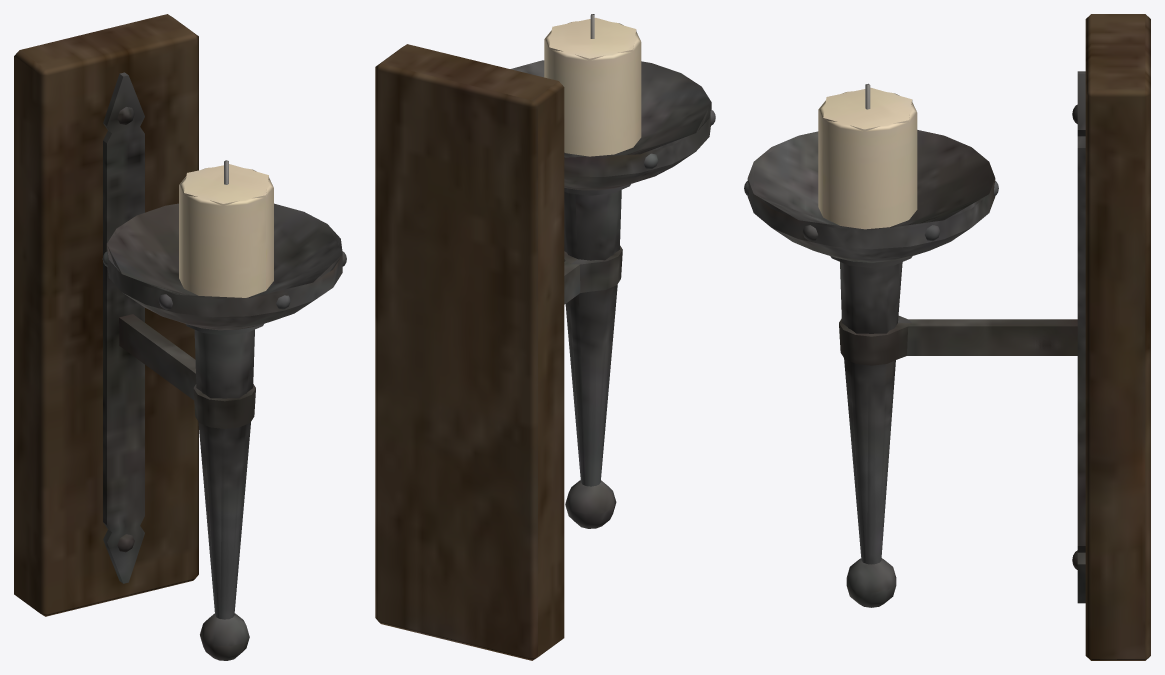
File: WallCandleB_Flame.glb
The picture shows the model from 3 angles, left to right: view 1: azimuth 30°, elevation 25°; view 2: azimuth 150°, elevation 25°; view 3: azimuth 270°, elevation 25°; orthographic projection. The views are drawn at different scales.
Parts seen in each view (by area): view 1: WallCandleBLOD1; view 2: WallCandleBLOD1; view 3: WallCandleBLOD1.
Boxes of the visible parts, bbox=[...] form: WallCandleBLOD1: bbox=[14, 14, 346, 660]; WallCandleBLOD1: bbox=[375, 14, 715, 660]; WallCandleBLOD1: bbox=[744, 14, 1150, 660].
Bounding box in the file's own units: 0.1753 × 0.4465 × 0.2881.
1 material, 1 textured.
